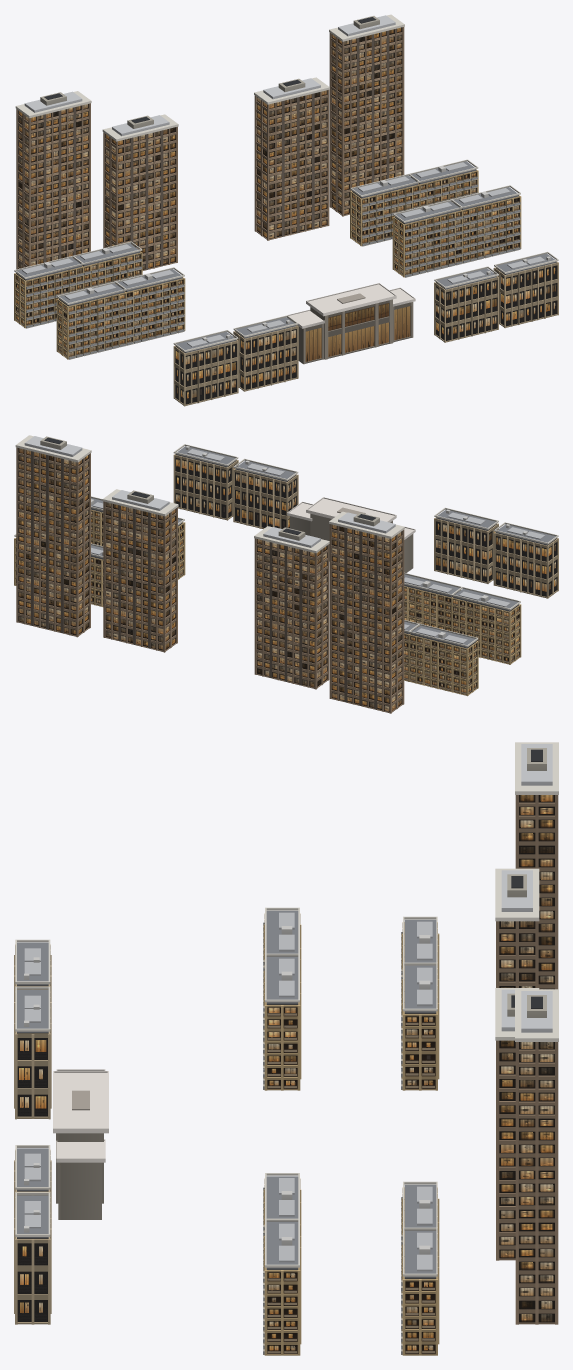
File: buildings_bl.glb
3 renders of one model, top to bottom at view 1: azimuth 30°, elevation 25°; view 2: azimuth 150°, elevation 25°; view 3: azimuth 270°, elevation 25°, orthographic. The views are drawn at different scales.
Parts seen in each view (by area): view 1: B04_body, B01_body, B03_body, B02_body, CL01_body, B11_body, B07_body, B13_body, B15_body, B12_body, B08_body, B14_body (+5 smaller); view 2: B01_body, B04_body, B02_body, B03_body, B13_body, B05_body, B07_body, B16_body, B14_body, B15_body, CL01_body, B08_body (+4 smaller); view 3: B04_body, B01_body, CL01_body, B03_body, B02_body, B12_body, B08_body, B14_body, B16_body, B10_body, B06_body, B05_body (+5 smaller).
Boxes of the visible parts, left/top/right/bottom form: B04_body: left=329, top=14, right=404, bottom=216; B01_body: left=15, top=91, right=91, bottom=269; B03_body: left=254, top=77, right=329, bottom=240; B02_body: left=102, top=114, right=178, bottom=270; CL01_body: left=287, top=283, right=415, bottom=364; B11_body: left=392, top=199, right=463, bottom=277; B07_body: left=56, top=281, right=126, bottom=359; B13_body: left=173, top=330, right=238, bottom=406; B15_body: left=434, top=266, right=498, bottom=342; B12_body: left=451, top=185, right=521, bottom=263; B08_body: left=115, top=267, right=185, bottom=345; B14_body: left=233, top=315, right=298, bottom=391; B01_body: left=329, top=511, right=404, bottom=713; B04_body: left=15, top=435, right=91, bottom=637; B02_body: left=254, top=526, right=329, bottom=689; B03_body: left=102, top=489, right=178, bottom=652; B13_body: left=493, top=522, right=558, bottom=598; B05_body: left=408, top=623, right=478, bottom=696; B07_body: left=451, top=587, right=521, bottom=664; B16_body: left=173, top=444, right=238, bottom=520; B14_body: left=434, top=507, right=498, bottom=583; B15_body: left=233, top=458, right=298, bottom=528; CL01_body: left=287, top=497, right=415, bottom=572; B08_body: left=404, top=572, right=462, bottom=631; B04_body: left=515, top=989, right=558, bottom=1324; B01_body: left=515, top=742, right=558, bottom=989; CL01_body: left=53, top=1069, right=108, bottom=1219; B03_body: left=495, top=988, right=539, bottom=1260; B02_body: left=495, top=868, right=539, bottom=987; B12_body: left=263, top=1218, right=301, bottom=1355; B08_body: left=263, top=954, right=301, bottom=1090; B14_body: left=14, top=986, right=51, bottom=1119; B16_body: left=14, top=1192, right=51, bottom=1324; B10_body: left=401, top=1227, right=439, bottom=1355; B06_body: left=401, top=962, right=439, bottom=1090; B05_body: left=401, top=916, right=439, bottom=979.
Bounding box in the file's own units: 258 × 100 × 166.
Materials: 28 (4 with a texture image).
